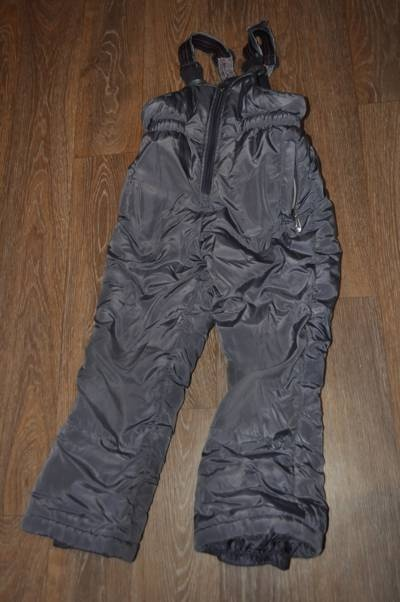Pants: (37, 58, 362, 568)
